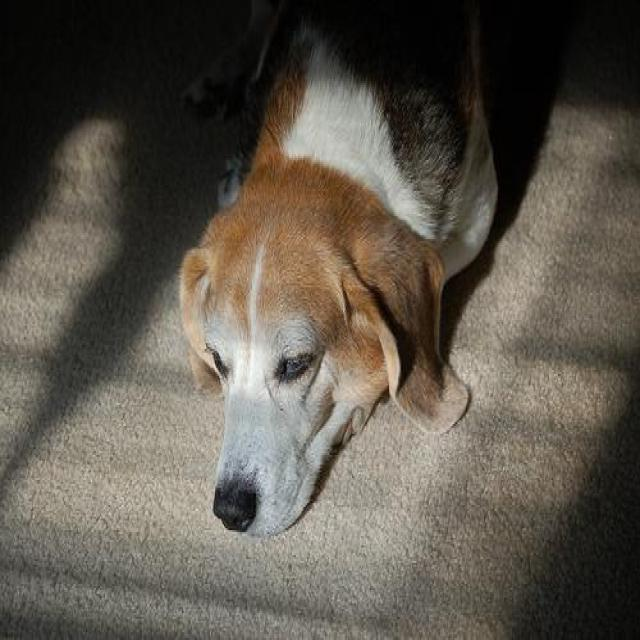beagle: (179, 4, 502, 542)
